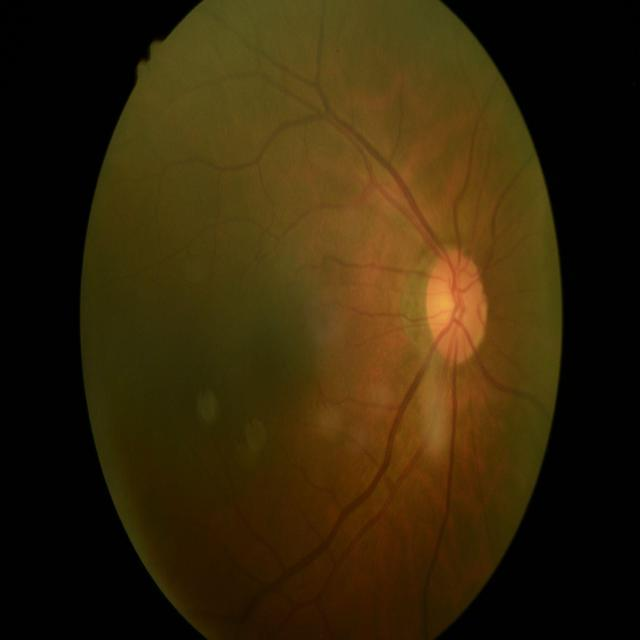cup: (439, 280, 467, 329)
disk: (426, 252, 490, 366)
